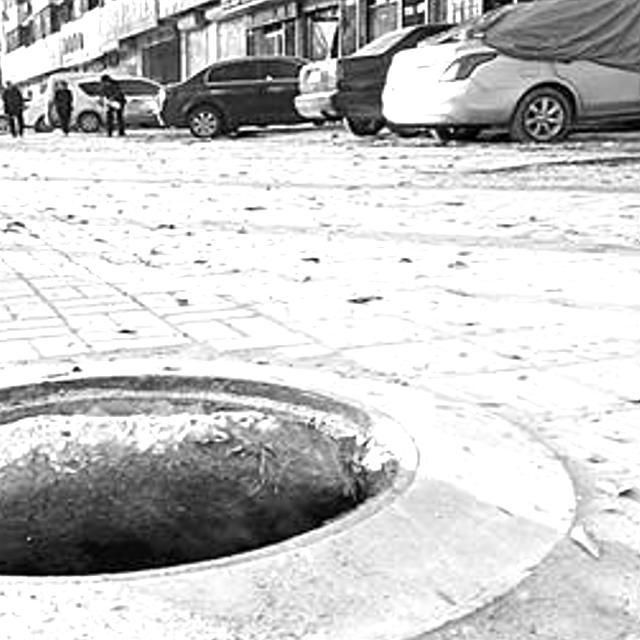lose: (0, 356, 543, 640)
